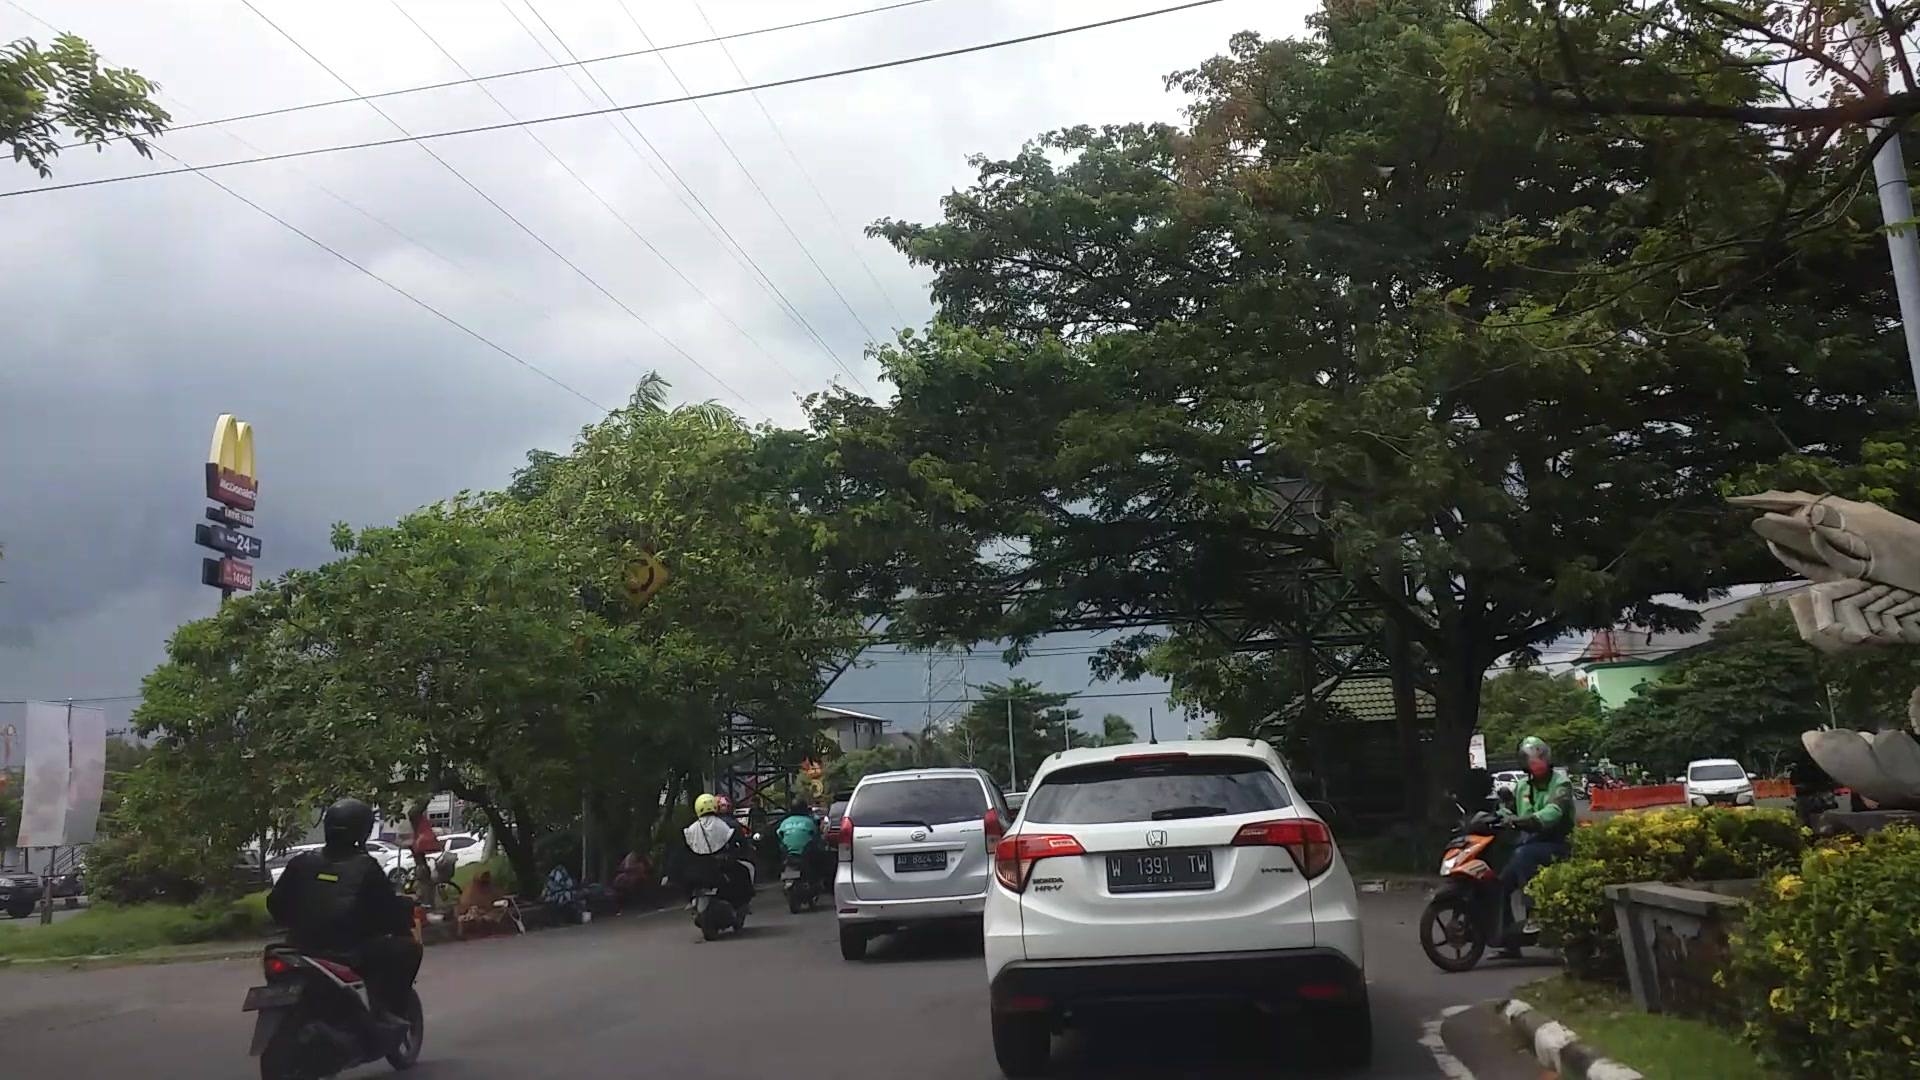plate_positive: (1105, 849, 1215, 891)
